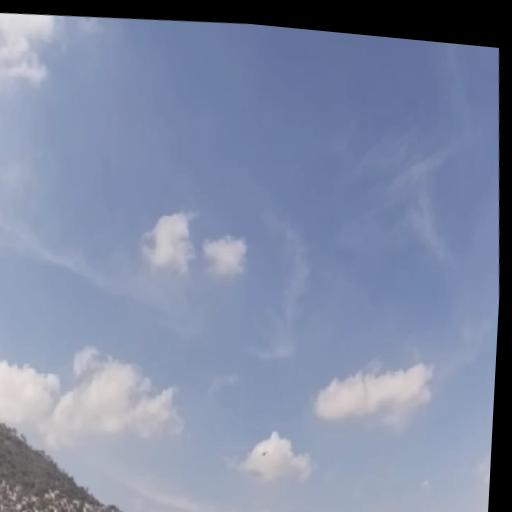drones: (257, 444, 270, 463)
